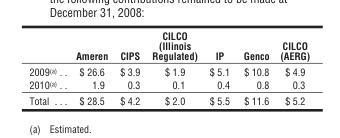table: (28, 28, 309, 106)
table column: (145, 28, 202, 106), (65, 28, 113, 106), (235, 28, 274, 106), (28, 28, 65, 106), (274, 28, 309, 106), (202, 28, 235, 106), (113, 28, 145, 106)
table column header: (28, 28, 309, 63)
table row: (28, 28, 309, 63), (28, 77, 309, 92), (28, 63, 309, 77), (28, 92, 309, 106)
